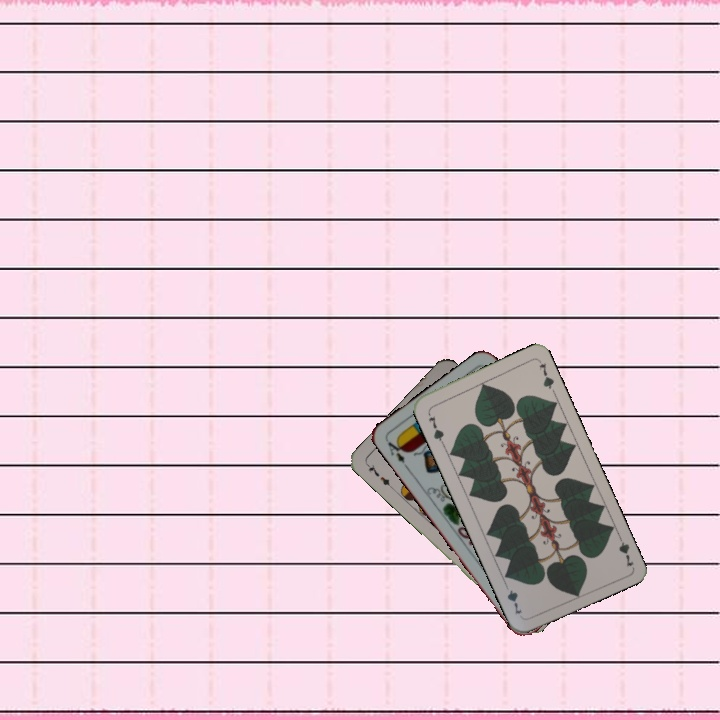E7: (362, 460, 396, 491)
EA: (382, 436, 411, 471)
G7: (613, 529, 636, 570), (424, 408, 446, 446)
